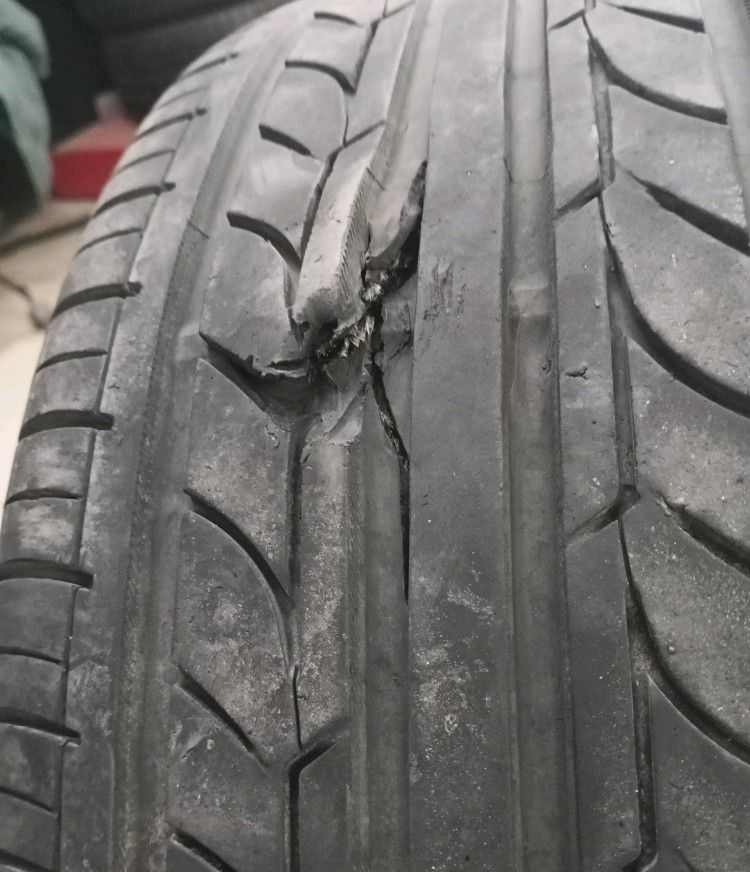tr: (258, 143, 428, 606)
